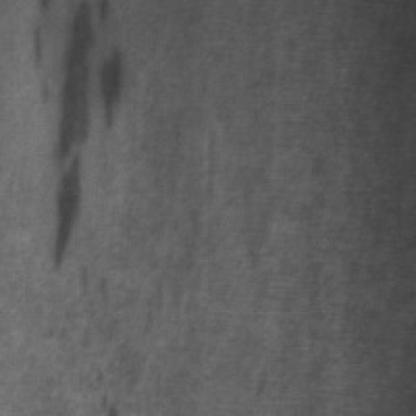inclusion: (29, 0, 106, 200), (40, 144, 88, 274), (91, 46, 127, 135)
